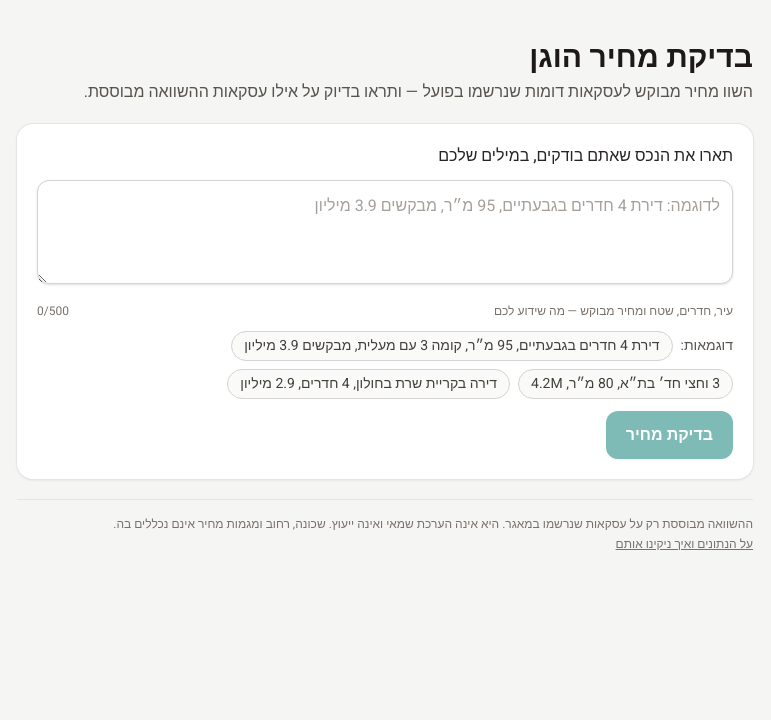
App › keeps the numbers when the explanation request fails
The image size is (771, 720).
Type "דירה בגבעתיים" into the text box labelled "תארו את הנכס שאתם בודקים, במילים שלכם". click: coordinates (385, 232)
box: x1=37 y1=180 x2=733 y2=284
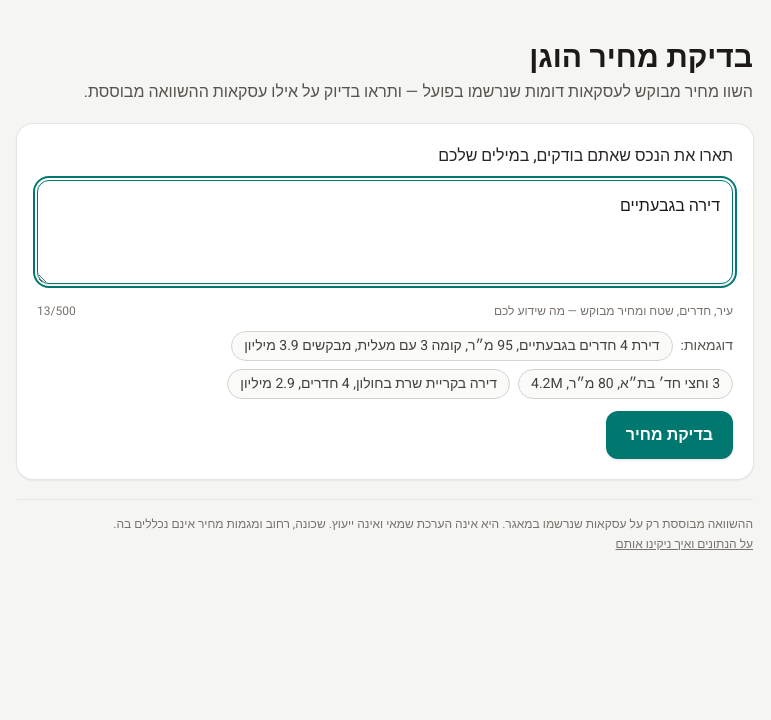
Click the button "בדיקת מחיר". click: coordinates (669, 435)
box: x1=606 y1=411 x2=733 y2=459
(page scrolled)
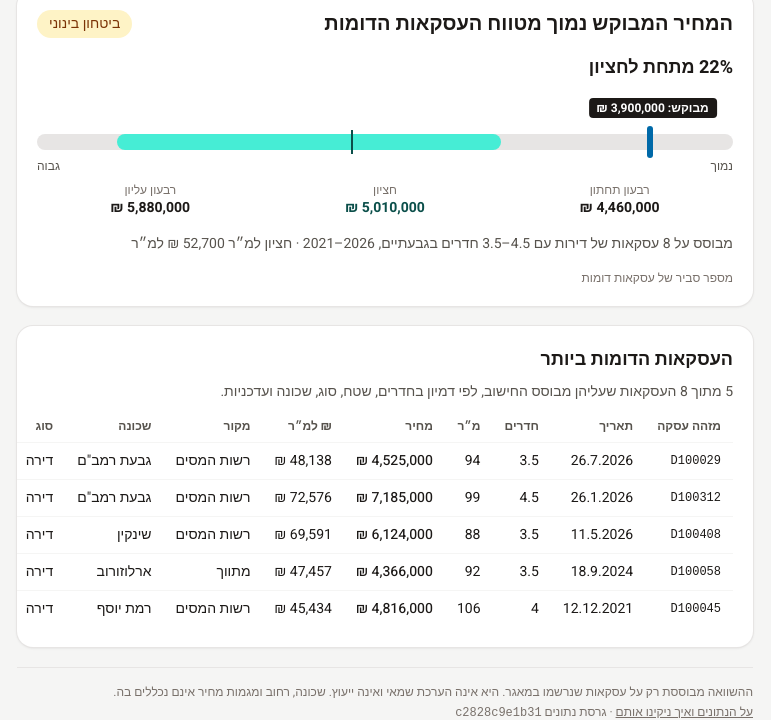
Now the heading "המחיר המבוקש נמוך מטווח העסקאות הדומות" is shown, box x1=324 y1=10 x2=733 y2=38
Now the heading "העסקאות הדומות ביותר" is shown, box x1=541 y1=346 x2=733 y2=373
